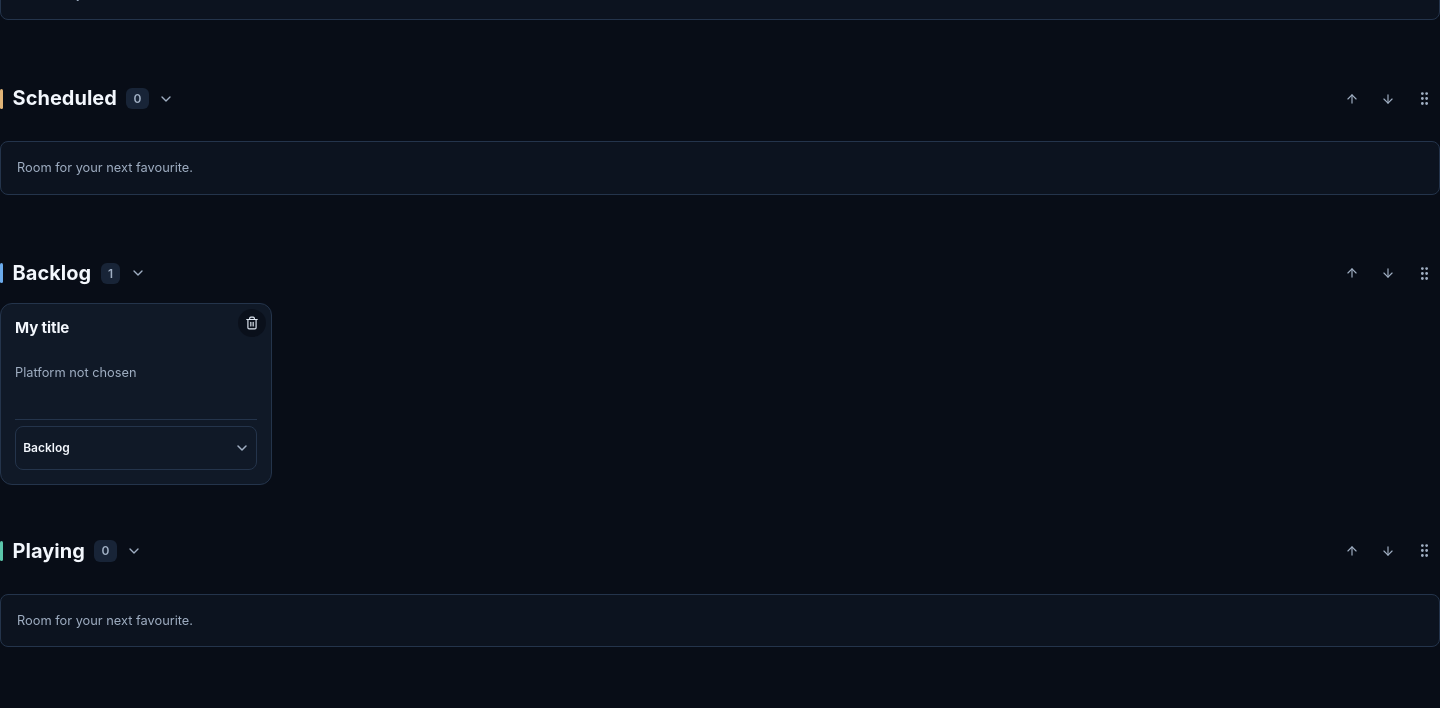
confirms game removal and lets users cancel safely
(page scrolled)
Click the button named "Remove My title" at coordinates (249, 326), box top-left (227, 304), bottom-right (271, 348)
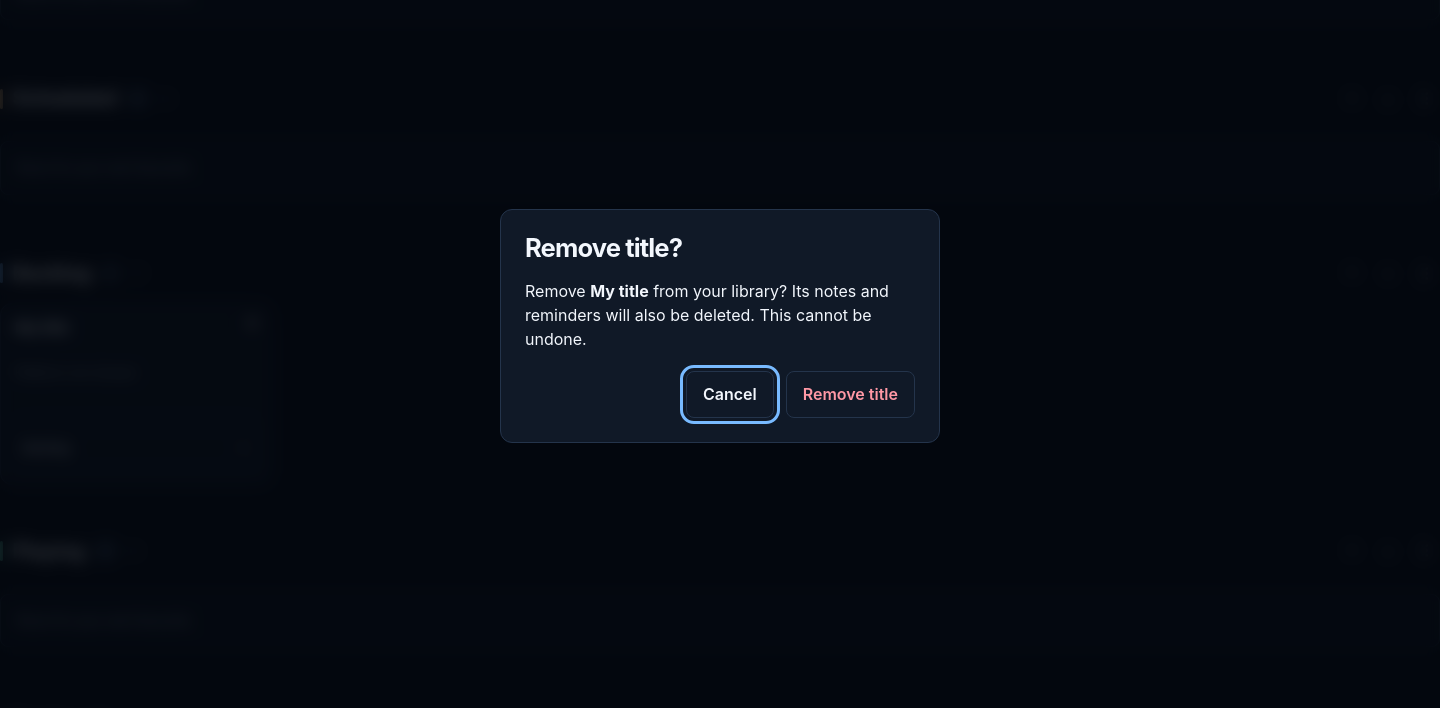
Click the button "Cancel" at coordinates (730, 394), box top-left (686, 371), bottom-right (774, 418)
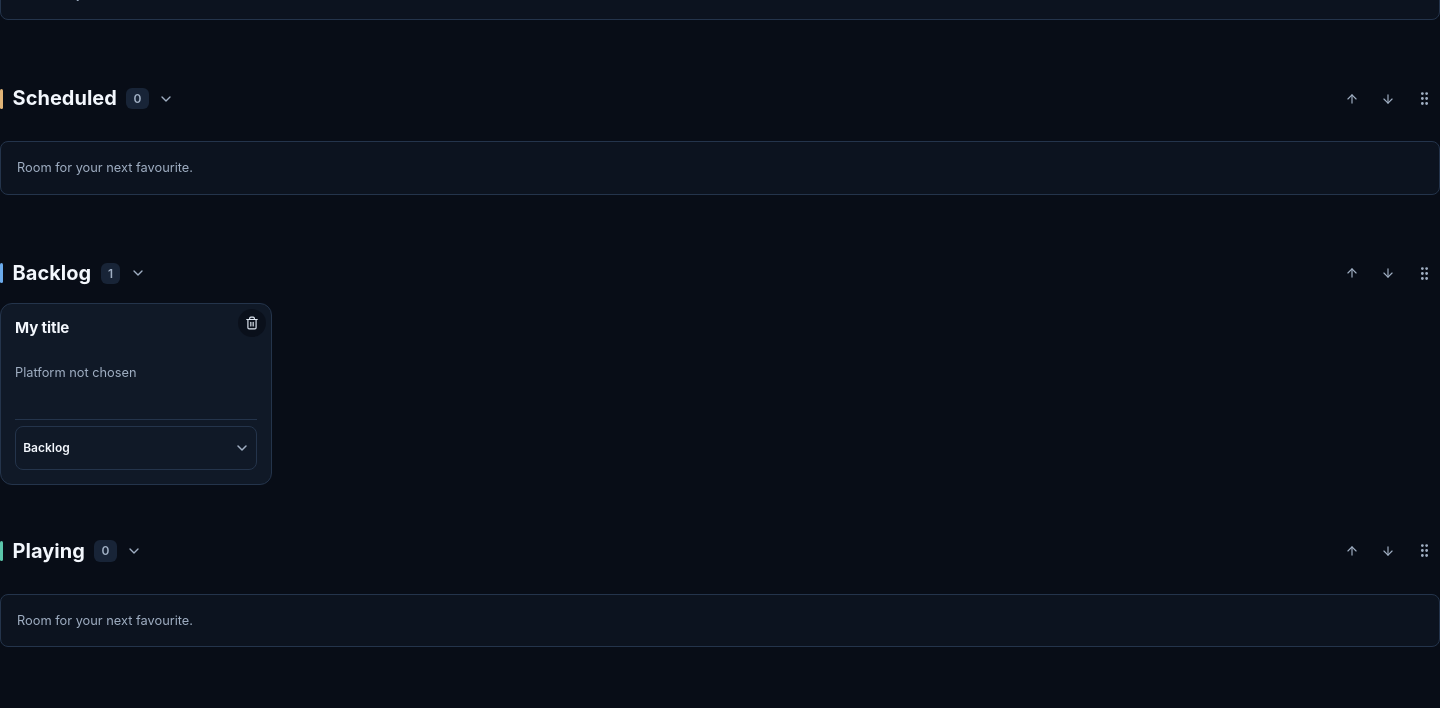
Expected: the heading "Remove title?" is gone
Click the button named "Remove My title" at coordinates (249, 326), box top-left (227, 304), bottom-right (271, 348)
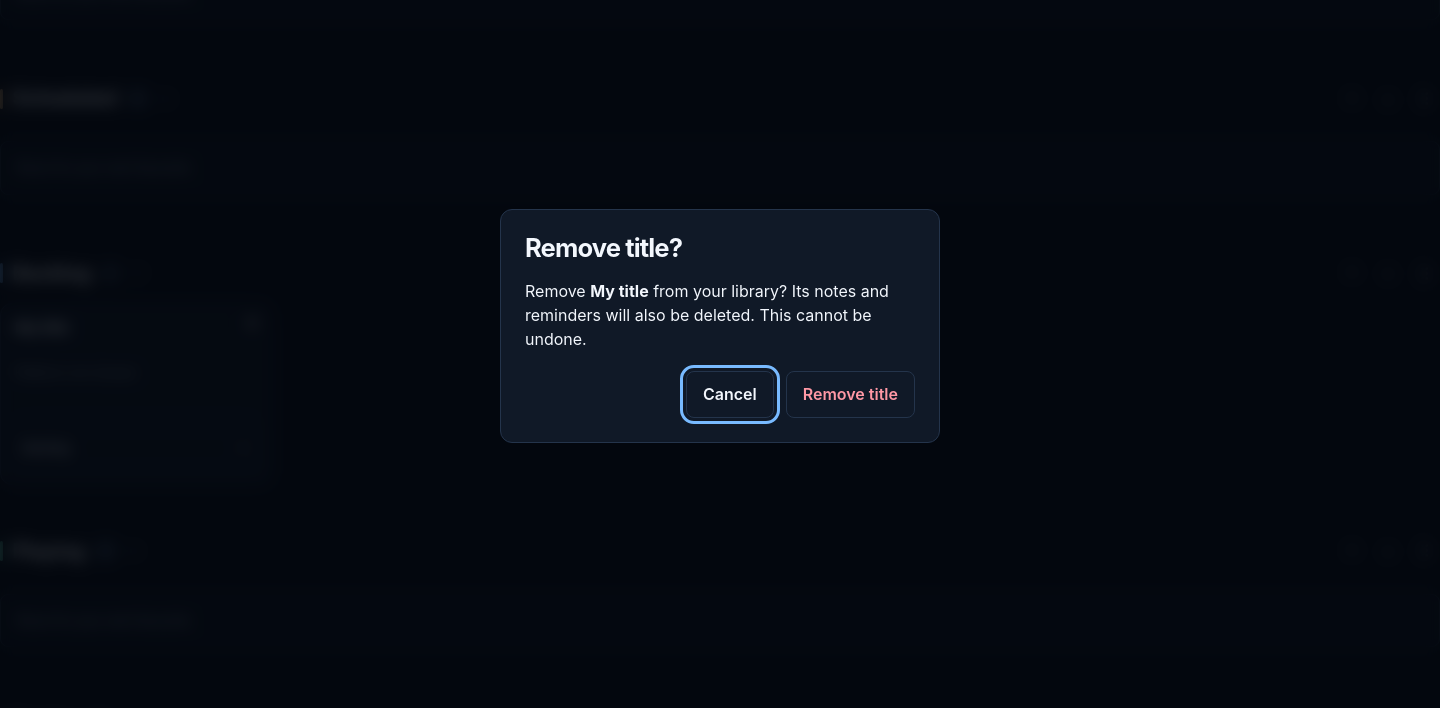
Click the button "Remove title" at coordinates (850, 394), box top-left (786, 371), bottom-right (915, 418)
(page scrolled)
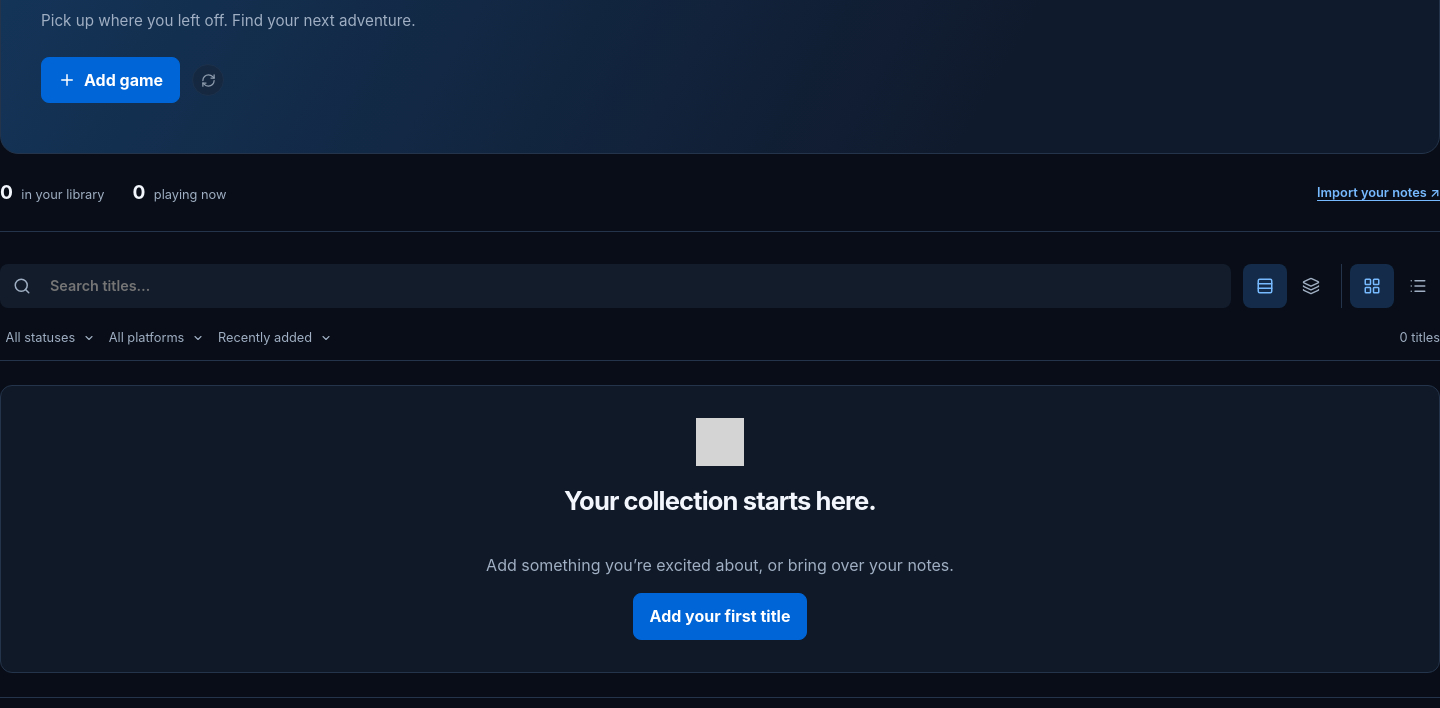
Expected: the link "My title" is gone
Expected: the heading "Your collection starts here." is shown, top-left (564, 487), bottom-right (876, 516)
